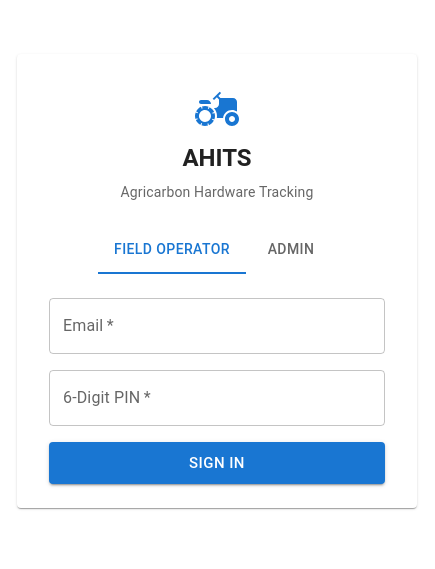
Test: LoginPage — lockout tells the truth (UXP-3 3b) › falls back to "for 15 minutes" when lockedUntil is missing or unparsable
In the field labelled "Email *": (217, 326) [49,298,385,354], type "op@test.example"
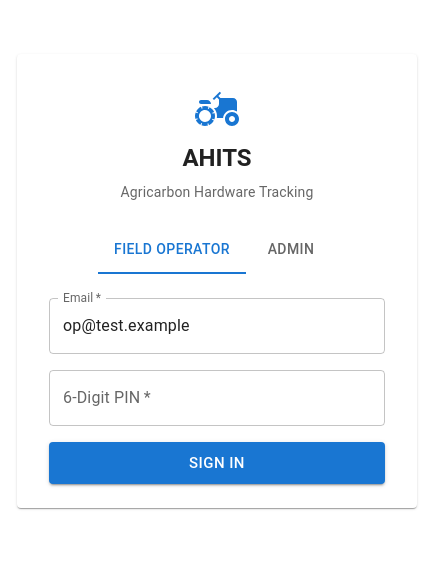
In the password field labelled "6-Digit PIN *": (217, 398) [49,370,385,426], type "123456"
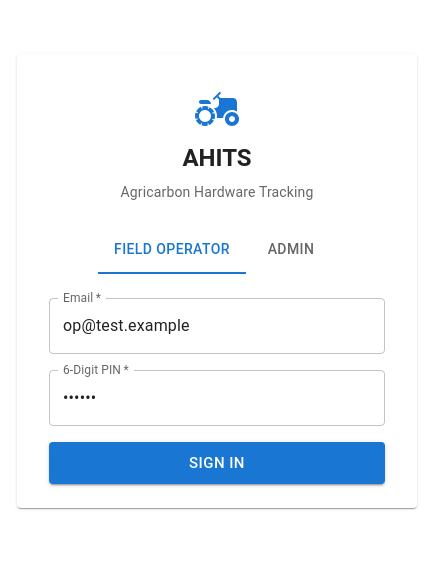
Click the button "Sign In": (217, 463) [49,442,385,484]
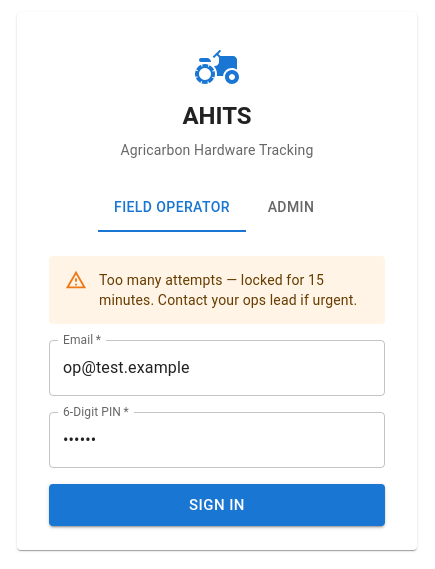
Result: the message reads "Too many attempts — locked for 15 minutes. Contact your ops lead if urgent." at [99,272,357,308]
